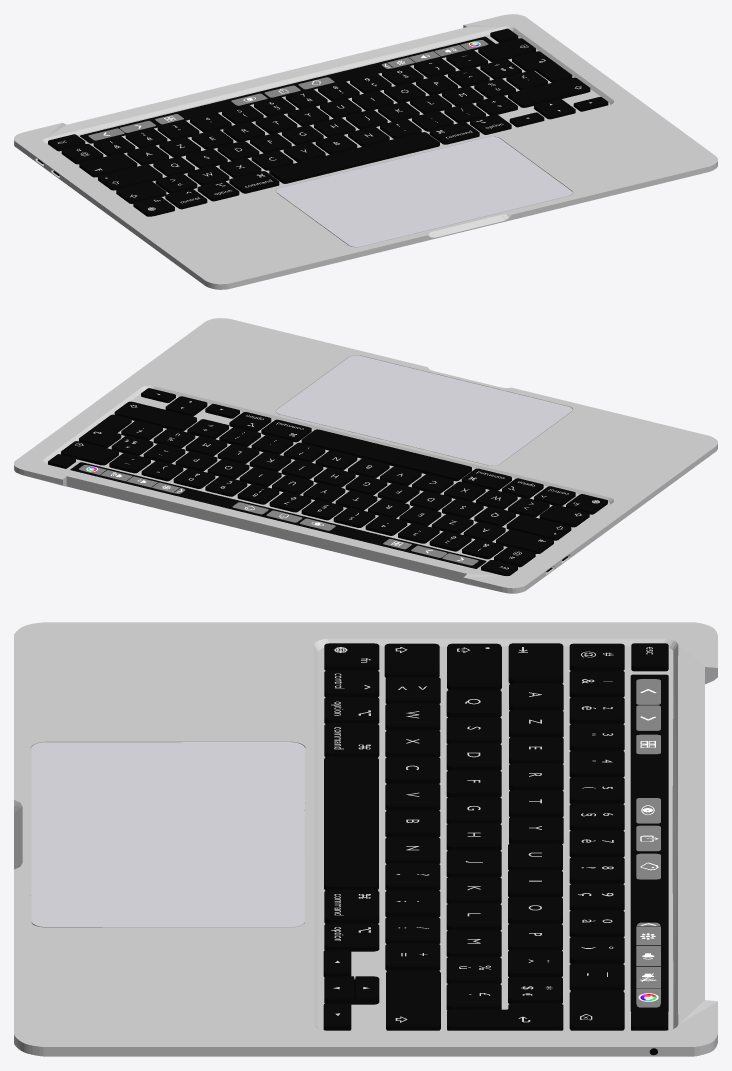
The model's file is LaptopBottom.glb.
The picture shows the model from 3 angles, top to bottom: view 1: azimuth 30°, elevation 25°; view 2: azimuth 150°, elevation 25°; view 3: azimuth 270°, elevation 25°; orthographic projection. The views are drawn at different scales.
Visible parts, largest first — view 1: Bottom; view 2: Bottom; view 3: Bottom.
Part boxes in pixels (x1,y1,x2,y2): Bottom: (14, 14, 717, 289); Bottom: (14, 318, 717, 593); Bottom: (14, 622, 717, 1056).
Bounding box in the file's own units: 10.44 × 0.2136 × 7.32.
Materials: 101 (1 with a texture image).
